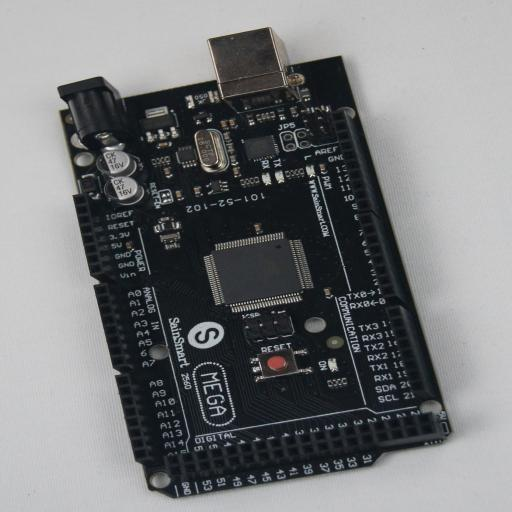Arduino Mega 2560 -Black-: (57, 28, 454, 498)
